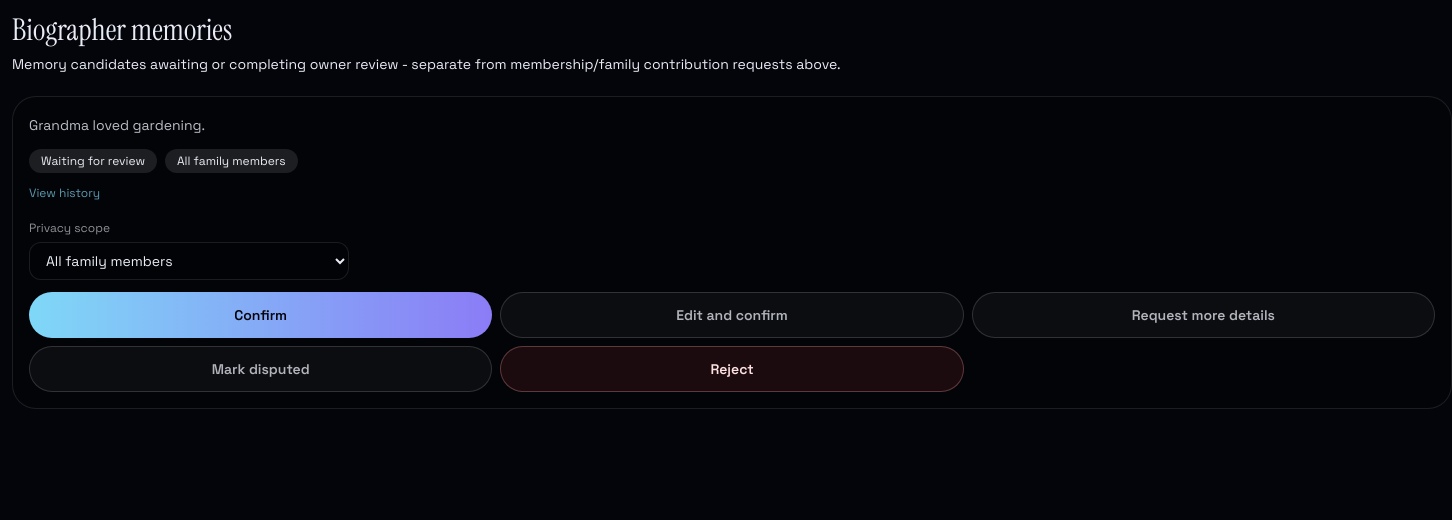
it: CandidatesReviewSection › edit and confirm sends the edited text and the selected privacy scope
The image size is (1452, 520).
Expected: the text "Grandma loved gardening." is shown, x1=29 y1=116 x2=205 y2=134
Click the button "Edit and confirm" at [732, 315], box x1=500 y1=292 x2=964 y2=338
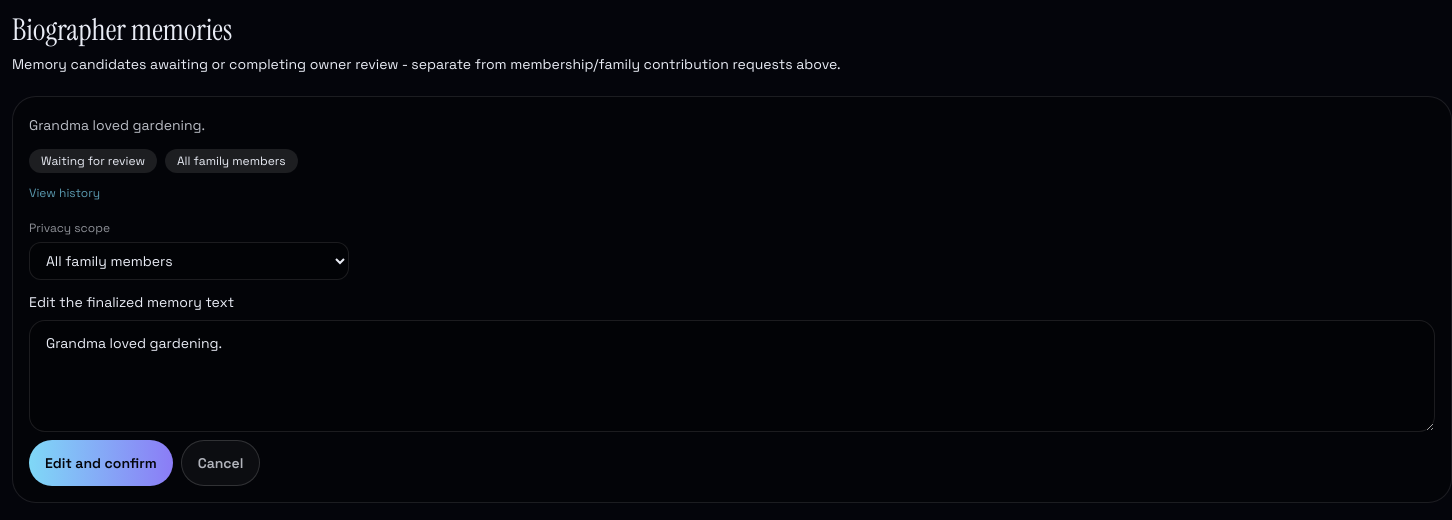
Replace the text in the text box labelled "Edit the finalized memory text" with "Grandma loved gardening roses." at [732, 376], box x1=29 y1=320 x2=1435 y2=432
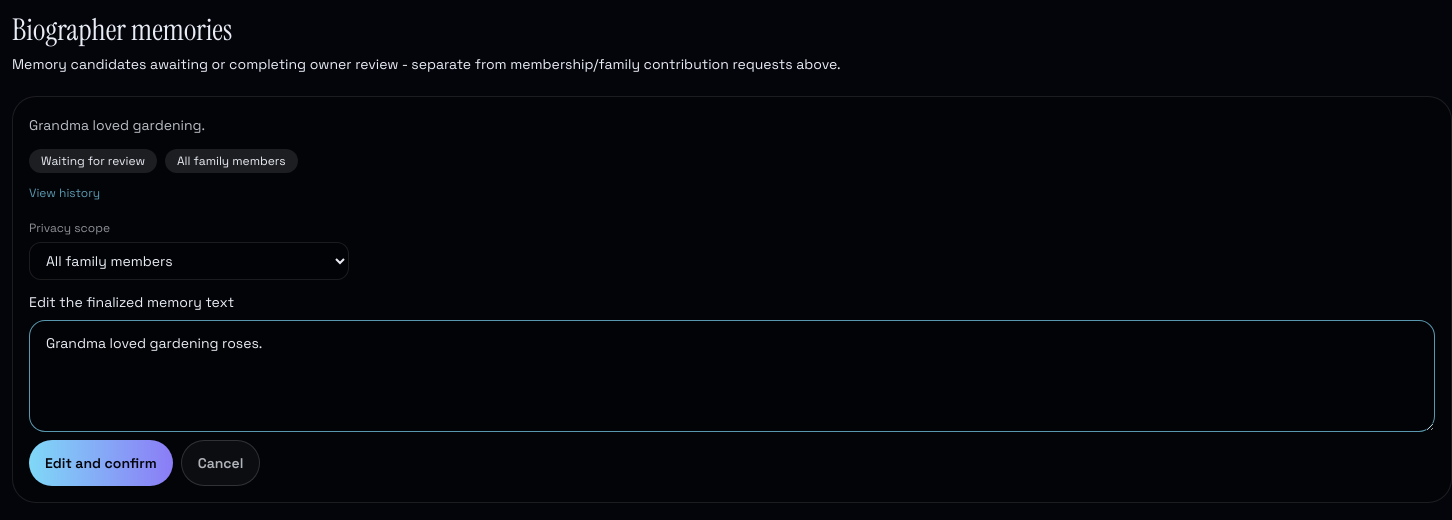
Click the button "Edit and confirm" at [101, 463], box x1=29 y1=440 x2=173 y2=486
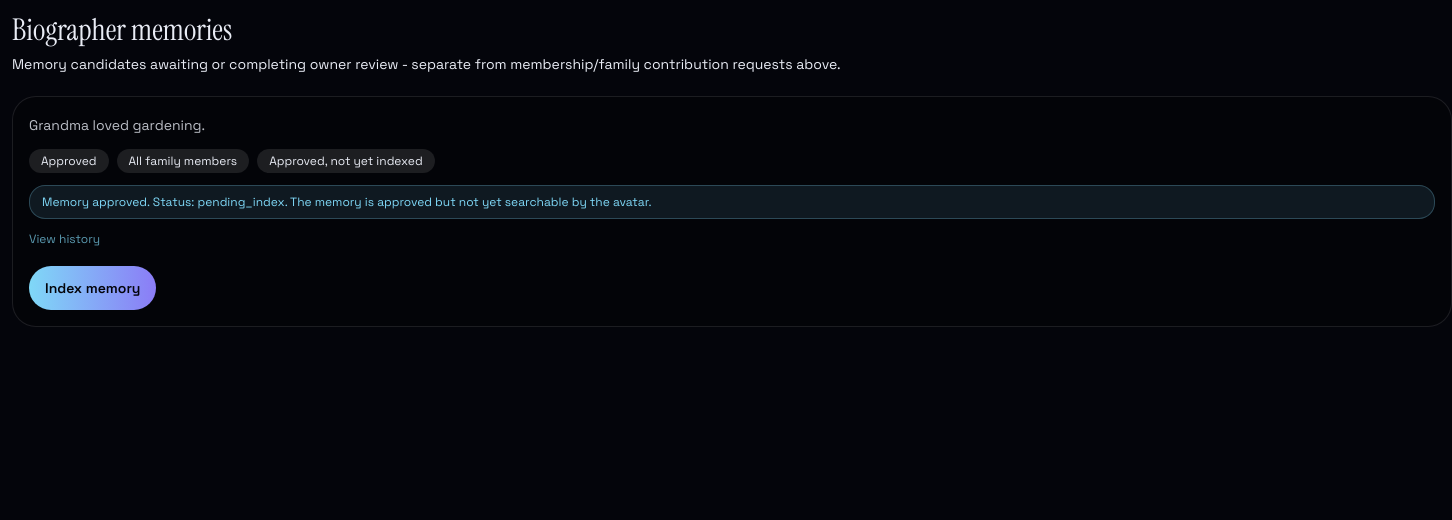
Now the text "Memory approved. Status: pending_index. The memory is approved but not yet searchable by the avatar." is shown, box x1=42 y1=194 x2=652 y2=210
